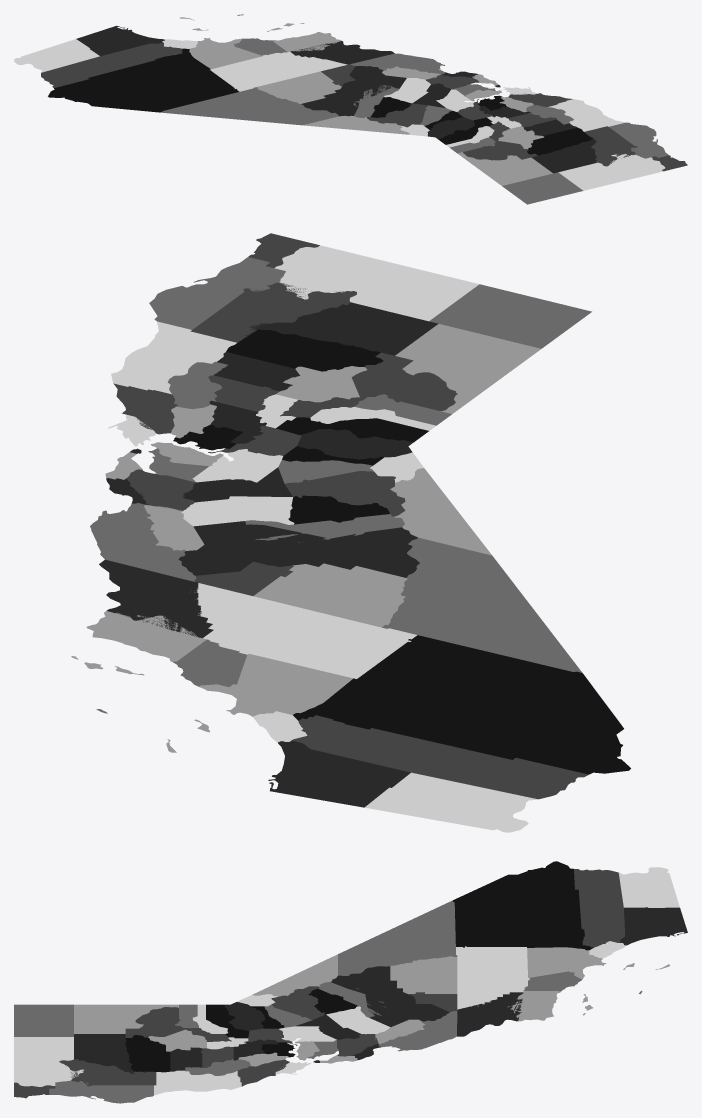
File: California_Counties_2D.fbx
3 views of the same model, one above another, from view 1: azimuth 30°, elevation 25°; view 2: azimuth 150°, elevation 25°; view 3: azimuth 270°, elevation 25° (orthographic). The views are drawn at different scales.
Parts seen in each view (by area): view 1: CA_San_Bernardino_County_2D, CA_Inyo_County_2D, CA_Kern_County_2D, CA_Riverside_County_2D, CA_Fresno_County_2D, CA_Siskiyou_County_2D, CA_Tulare_County_2D, CA_Lassen_County_2D, CA_Imperial_County_2D, CA_Modoc_County_2D, CA_San_Diego_County_2D, CA_Los_Angeles_County_2D (+33 smaller); view 2: CA_San_Bernardino_County_2D, CA_Inyo_County_2D, CA_Kern_County_2D, CA_Riverside_County_2D, CA_Fresno_County_2D, CA_Siskiyou_County_2D, CA_Tulare_County_2D, CA_Lassen_County_2D, CA_Imperial_County_2D, CA_Modoc_County_2D, CA_San_Diego_County_2D, CA_Los_Angeles_County_2D (+40 smaller); view 3: CA_San_Bernardino_County_2D, CA_Inyo_County_2D, CA_Kern_County_2D, CA_Riverside_County_2D, CA_Fresno_County_2D, CA_Siskiyou_County_2D, CA_Tulare_County_2D, CA_Lassen_County_2D, CA_Imperial_County_2D, CA_Modoc_County_2D, CA_San_Diego_County_2D, CA_Los_Angeles_County_2D (+34 smaller).
Boxes of the visible parts, x1,y1,x2,y2 form: CA_San_Bernardino_County_2D: (48, 48, 239, 112); CA_Inyo_County_2D: (160, 87, 338, 125); CA_Kern_County_2D: (210, 51, 347, 91); CA_Riverside_County_2D: (41, 42, 182, 87); CA_Fresno_County_2D: (301, 66, 406, 116); CA_Siskiyou_County_2D: (558, 154, 665, 190); CA_Tulare_County_2D: (256, 71, 341, 103); CA_Lassen_County_2D: (457, 152, 552, 185); CA_Imperial_County_2D: (14, 39, 99, 72); CA_Modoc_County_2D: (502, 172, 582, 204); CA_San_Diego_County_2D: (76, 25, 164, 56); CA_Los_Angeles_County_2D: (180, 17, 262, 69); CA_San_Bernardino_County_2D: (293, 635, 630, 774); CA_Inyo_County_2D: (382, 537, 582, 672); CA_Kern_County_2D: (194, 583, 417, 678); CA_Riverside_County_2D: (292, 715, 588, 799); CA_Fresno_County_2D: (178, 521, 419, 577); CA_Siskiyou_County_2D: (274, 245, 479, 321); CA_Tulare_County_2D: (253, 563, 407, 627); CA_Lassen_County_2D: (395, 324, 540, 413); CA_Imperial_County_2D: (365, 772, 537, 832); CA_Modoc_County_2D: (429, 284, 591, 348); CA_San_Diego_County_2D: (268, 740, 410, 807); CA_Los_Angeles_County_2D: (166, 654, 353, 752); CA_San_Bernardino_County_2D: (453, 861, 593, 950); CA_Inyo_County_2D: (338, 900, 457, 975); CA_Kern_County_2D: (456, 946, 529, 1009); CA_Riverside_County_2D: (574, 869, 625, 947); CA_Fresno_County_2D: (331, 966, 449, 1027); CA_Siskiyou_County_2D: (14, 1037, 83, 1086); CA_Tulare_County_2D: (390, 956, 457, 994); CA_Lassen_County_2D: (74, 1004, 178, 1033); CA_Imperial_County_2D: (618, 867, 679, 907); CA_Modoc_County_2D: (14, 1004, 73, 1036); CA_San_Diego_County_2D: (620, 907, 687, 945); CA_Los_Angeles_County_2D: (527, 947, 669, 978).
Bounding box in the file's own units: 676 × 0 × 795.
